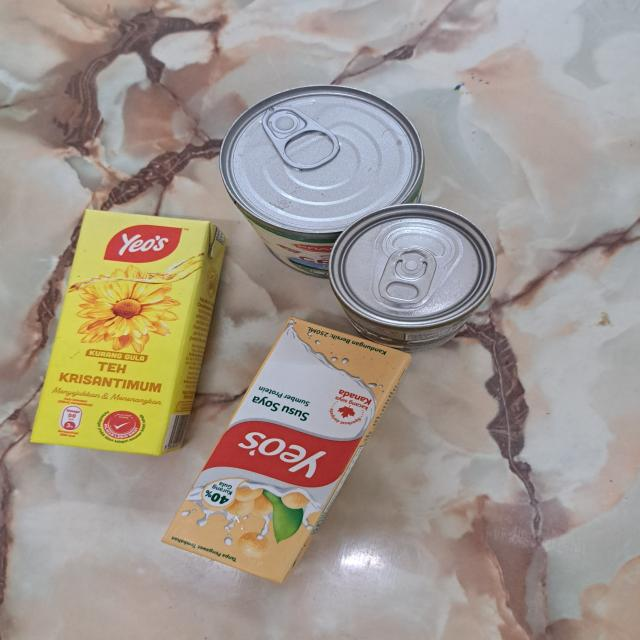can: (220, 86, 427, 280), (328, 204, 496, 350)
drink carton: (161, 317, 414, 584), (28, 208, 234, 456)
pop tab: (261, 104, 342, 170), (378, 247, 438, 305)
